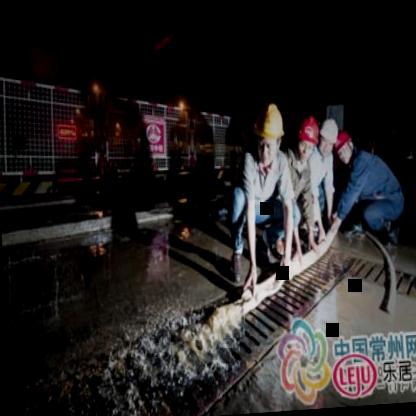helmet: (254, 99, 286, 173), (298, 116, 322, 160), (318, 115, 340, 159), (332, 126, 354, 166)
